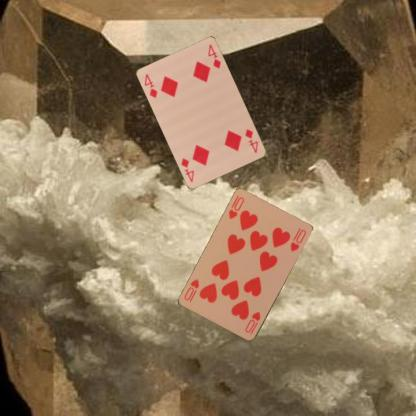10h: (242, 309, 262, 336), (226, 194, 245, 220)
4d: (141, 71, 159, 99), (242, 127, 260, 154)
